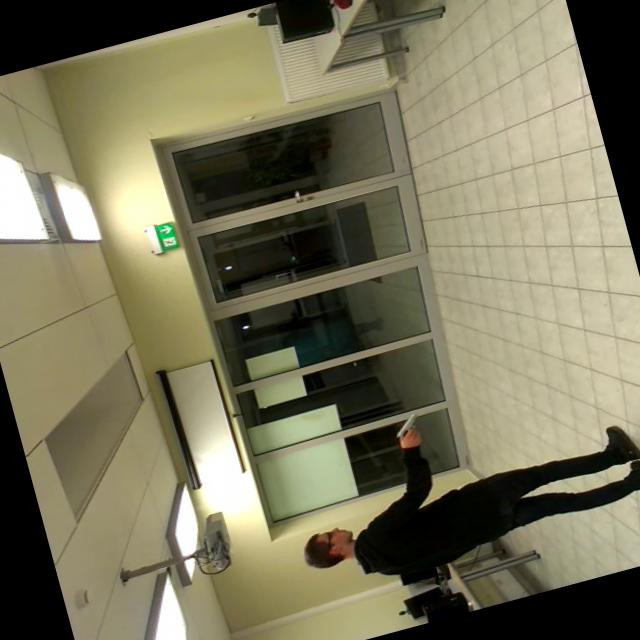handgun: (381, 404, 428, 443)
